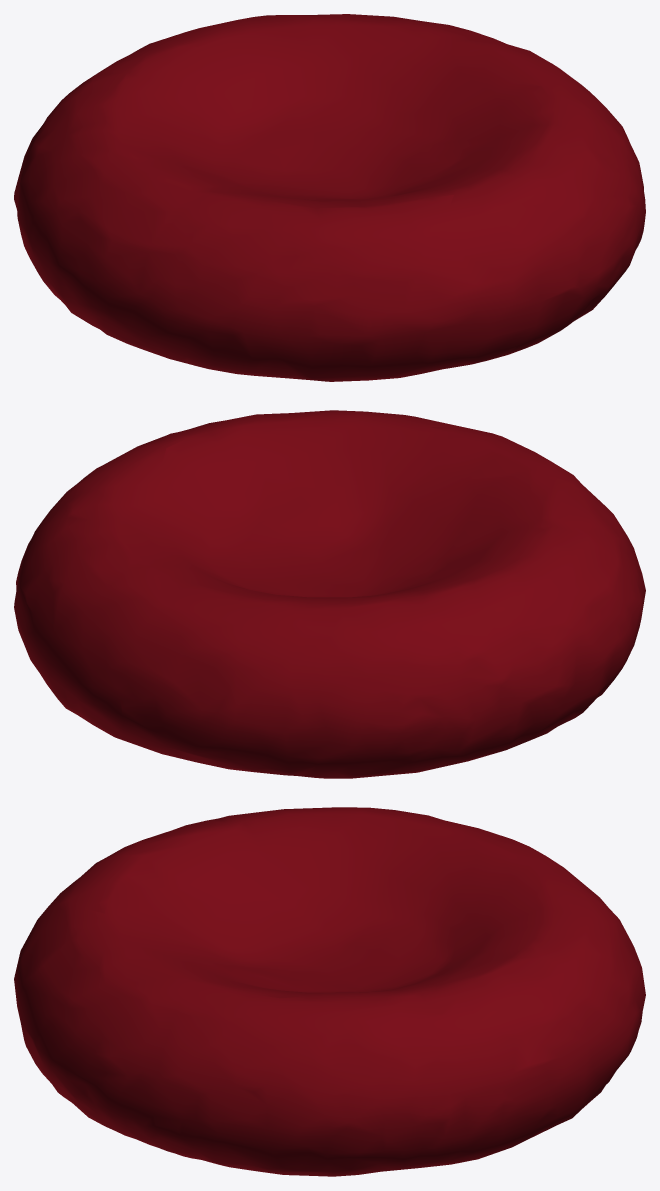
File: redCell.glb
3 views of the same model, one above another, from view 1: azimuth 30°, elevation 25°; view 2: azimuth 150°, elevation 25°; view 3: azimuth 270°, elevation 25° (orthographic).
Visible parts, largest first — view 1: RBC; view 2: RBC; view 3: RBC.
Part boxes in pixels (x1,y1,x2,y2): RBC: (14,14,645,381); RBC: (14,410,645,778); RBC: (14,807,645,1176).
Size of the model in its own units: 47.62 by 13.79 by 47.65.
